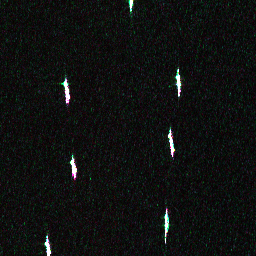ship: (164, 128, 177, 156), (61, 79, 72, 104), (68, 158, 79, 176), (162, 211, 170, 234), (42, 239, 53, 255), (174, 71, 182, 91), (126, 1, 134, 13)
